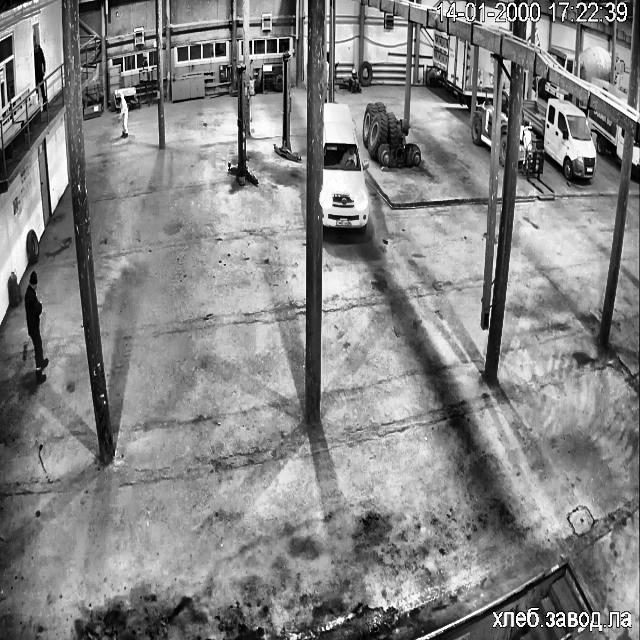car lift: (228, 64, 257, 185), (274, 52, 300, 161)
fire extinguisher: (8, 273, 21, 306)
mechanic: (24, 270, 48, 381), (34, 44, 47, 108), (120, 92, 128, 137), (324, 52, 329, 101)
truck: (524, 99, 596, 180), (433, 28, 474, 107), (588, 108, 624, 160), (518, 117, 543, 176), (576, 46, 610, 81), (471, 99, 496, 146), (476, 46, 493, 100), (592, 80, 627, 105), (498, 89, 509, 164), (548, 45, 574, 73), (536, 78, 565, 100), (632, 134, 640, 177), (505, 61, 508, 68)
